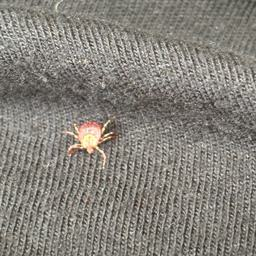Dermacentor variabilis: (62, 119, 115, 168)
